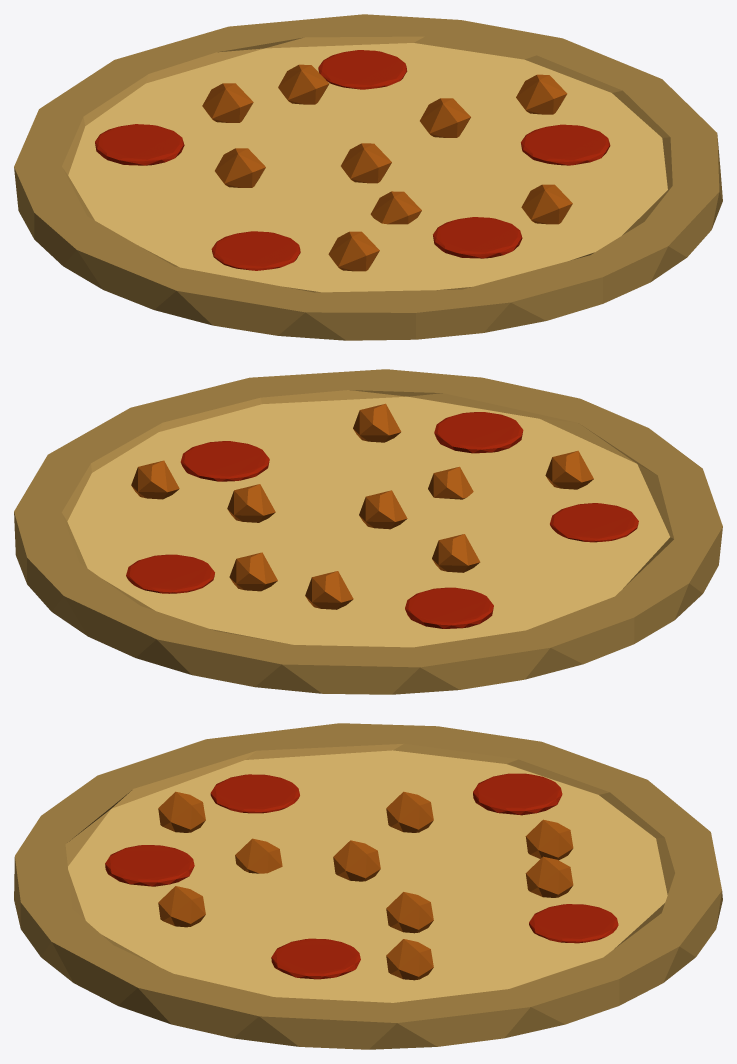
Rendered from pizza.fbx.
The picture shows the model from 3 angles, top to bottom: view 1: azimuth 30°, elevation 25°; view 2: azimuth 150°, elevation 25°; view 3: azimuth 270°, elevation 25°; orthographic projection.
Parts seen in each view (by area): view 1: Cylinder, Cylinder.002, Cylinder.001, Cylinder.004, Cylinder.003, Cylinder.005, Sphere.004, Sphere.003, Sphere.007, Sphere.008, Sphere.005, Sphere.006 (+3 smaller); view 2: Cylinder, Cylinder.001, Cylinder.002, Cylinder.004, Cylinder.003, Cylinder.005, Sphere.005, Sphere.002, Sphere.008, Sphere.004, Sphere.003, Sphere.007 (+3 smaller); view 3: Cylinder, Cylinder.001, Cylinder.002, Cylinder.004, Cylinder.003, Cylinder.005, Sphere.007, Sphere.001, Sphere.003, Sphere.004, Sphere.008, Sphere.002 (+3 smaller).
Boxes of the visible parts, left/top/right/bottom form: Cylinder: left=14, top=14, right=722, bottom=340; Cylinder.002: left=433, top=217, right=522, bottom=258; Cylinder.001: left=95, top=124, right=184, bottom=165; Cylinder.004: left=521, top=124, right=610, bottom=165; Cylinder.003: left=318, top=50, right=407, bottom=89; Cylinder.005: left=211, top=231, right=300, bottom=270; Sphere.004: left=521, top=184, right=572, bottom=224; Sphere.003: left=328, top=231, right=379, bottom=271; Sphere.007: left=341, top=143, right=391, bottom=183; Sphere.008: left=516, top=74, right=567, bottom=114; Sphere.005: left=278, top=64, right=329, bottom=104; Sphere.006: left=202, top=83, right=253, bottom=122; Cylinder: left=14, top=369, right=722, bottom=694; Cylinder.001: left=405, top=587, right=493, bottom=628; Cylinder.002: left=434, top=412, right=523, bottom=453; Cylinder.004: left=180, top=441, right=269, bottom=481; Cylinder.003: left=126, top=554, right=214, bottom=593; Cylinder.005: left=550, top=503, right=638, bottom=542; Sphere.005: left=229, top=552, right=277, bottom=591; Sphere.002: left=227, top=484, right=275, bottom=522; Sphere.008: left=131, top=460, right=179, bottom=499; Sphere.004: left=353, top=403, right=401, bottom=442; Sphere.003: left=545, top=450, right=593, bottom=489; Sphere.007: left=359, top=490, right=407, bottom=529; Cylinder: left=14, top=723, right=722, bottom=1049; Cylinder.001: left=473, top=773, right=562, bottom=815; Cylinder.002: left=105, top=845, right=194, bottom=886; Cylinder.004: left=271, top=938, right=360, bottom=979; Cylinder.003: left=529, top=904, right=618, bottom=943; Cylinder.005: left=210, top=774, right=299, bottom=813; Sphere.007: left=333, top=840, right=380, bottom=881; Sphere.001: left=386, top=791, right=433, bottom=832; Sphere.003: left=158, top=791, right=205, bottom=832; Sphere.004: left=158, top=886, right=205, bottom=927; Sphere.008: left=386, top=939, right=433, bottom=980; Sphere.002: left=386, top=892, right=433, bottom=933.
Size of the model in its own units: 415 by 33.94 by 414.
